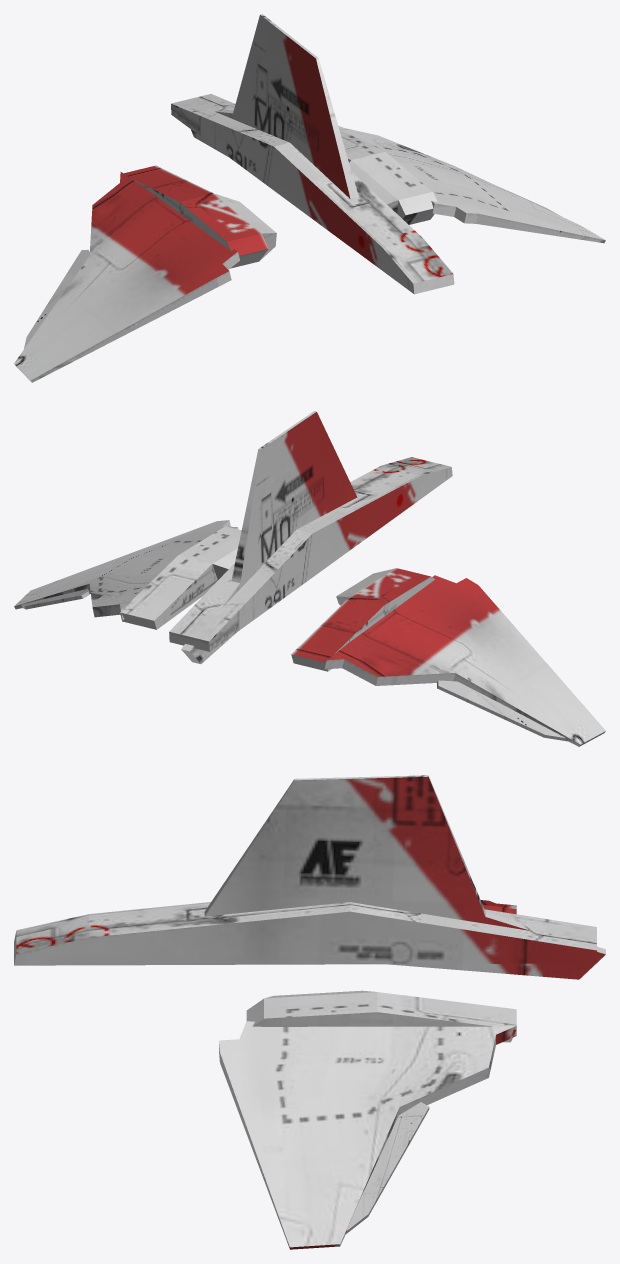
Rendered from tailwing02.FBX.
The picture shows the model from 3 angles, top to bottom: view 1: azimuth 30°, elevation 25°; view 2: azimuth 150°, elevation 25°; view 3: azimuth 270°, elevation 25°; orthographic projection. The views are drawn at different scales.
Parts seen in each view (by area): view 1: tailwing02; view 2: tailwing02; view 3: tailwing02.
Boxes of the visible parts, x1,y1,x2,y2 form: tailwing02: (14,14,605,382); tailwing02: (14,411,605,746); tailwing02: (14,775,605,1249).
Bounding box in the file's own units: 751 × 320 × 559.
